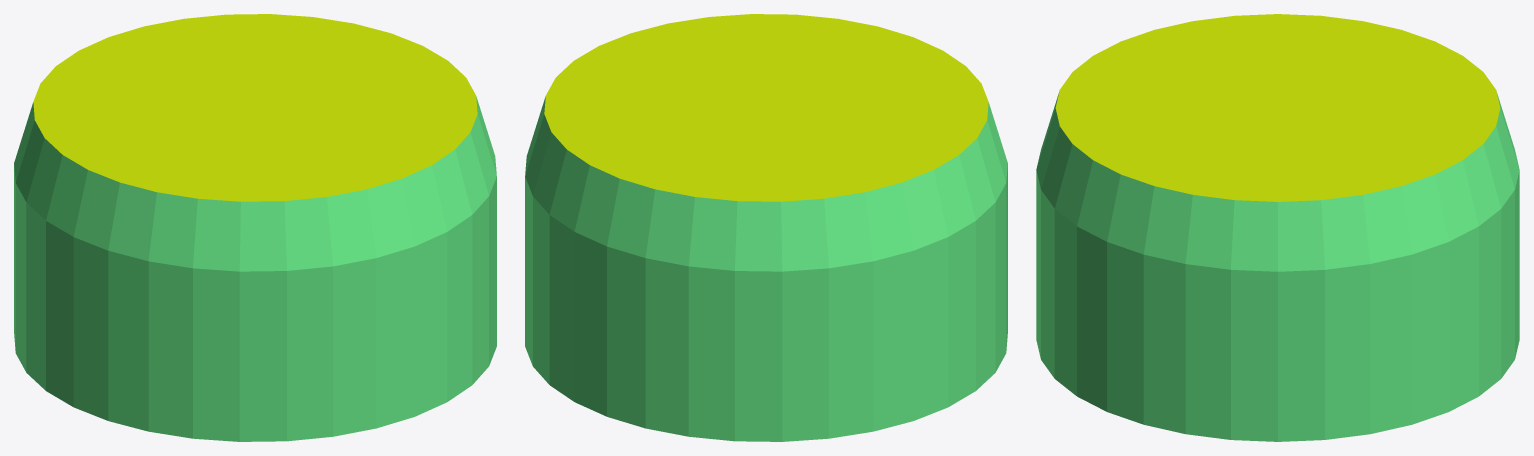
Rendered from Podium3st.fbx.
3 views of the same model, side by side, from view 1: azimuth 30°, elevation 25°; view 2: azimuth 150°, elevation 25°; view 3: azimuth 270°, elevation 25° (orthographic).
Visible parts, largest first — view 1: Circle; view 2: Circle; view 3: Circle.
Boxes of the visible parts, x1,y1,x2,y2 form: Circle: (14,14,496,441); Circle: (525,14,1007,441); Circle: (1036,14,1519,441).
Size of the model in its own units: 817 by 432 by 817.
